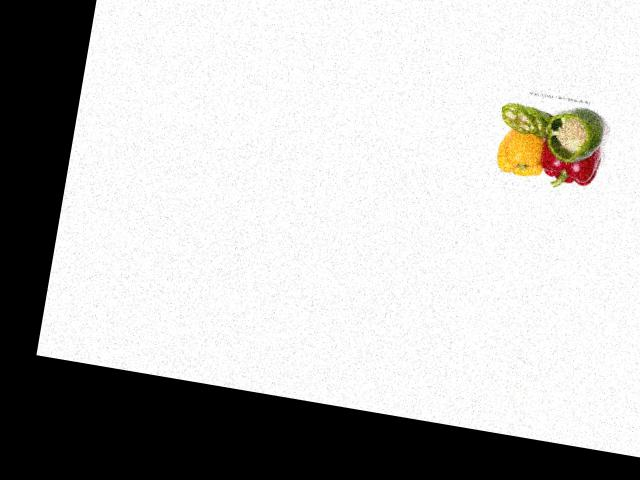bell_pepper: (541, 107, 611, 169)
